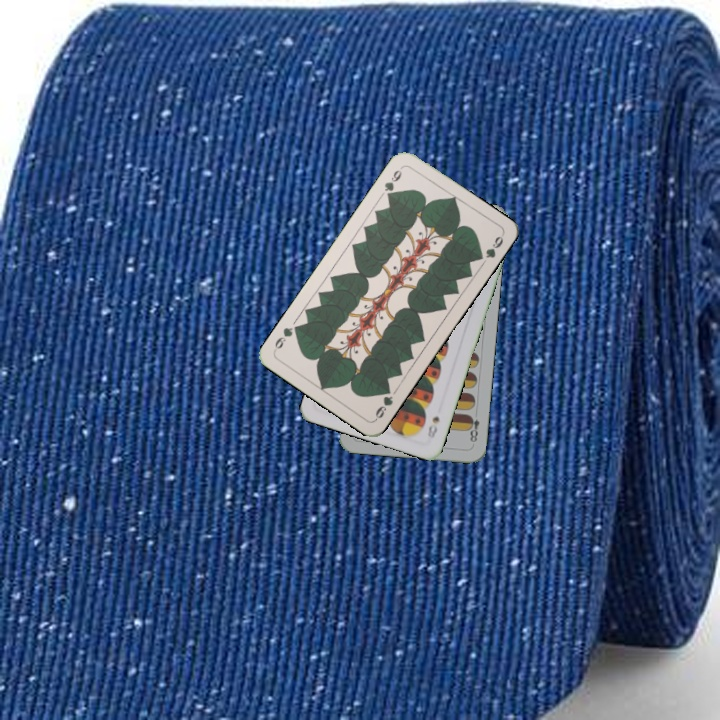E8: (464, 411, 482, 445)
G9: (371, 383, 396, 423), (380, 166, 404, 202)
S8: (423, 412, 442, 441)
